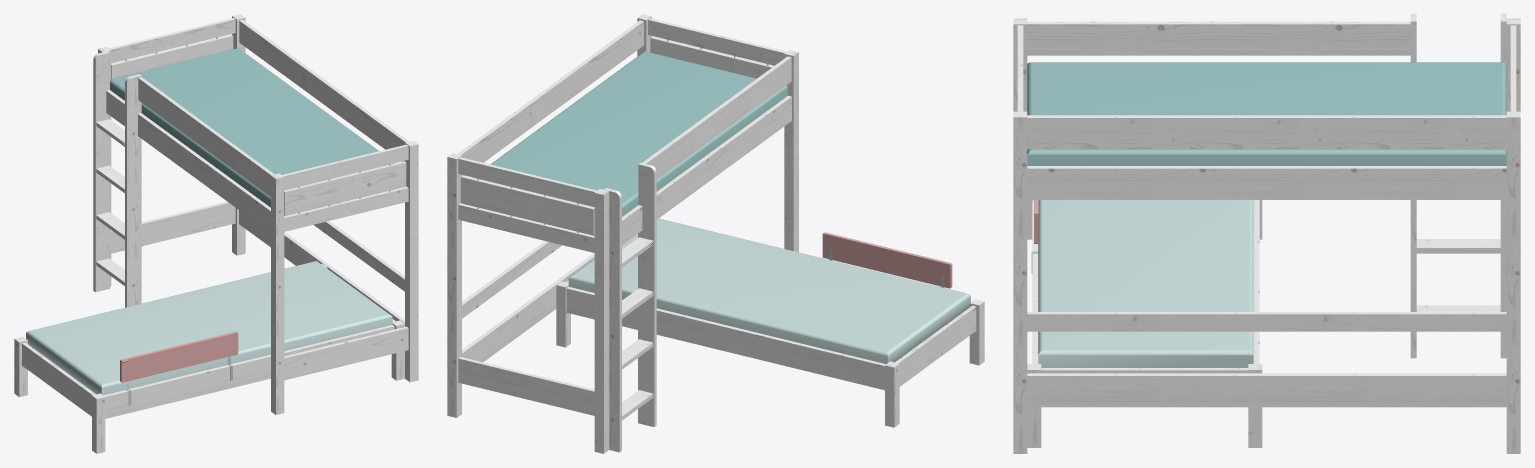
3 views of the same model, side by side, from view 1: azimuth 30°, elevation 25°; view 2: azimuth 150°, elevation 25°; view 3: azimuth 270°, elevation 25° (orthographic). The views are drawn at different scales.
Visible parts, largest first — view 1: mesh19_mesh19-geometry, mesh48_mesh48-geometry, mesh22_mesh22-geometry, mesh31_mesh31-geometry, mesh35_mesh35-geometry, mesh16_mesh16-geometry, mesh23_mesh23-geometry, mesh24_mesh24-geometry, mesh27_mesh27-geometry, mesh1_mesh1-geometry, mesh21_mesh21-geometry_1, mesh50_mesh50-geometry (+6 smaller); view 2: mesh19_mesh19-geometry, mesh48_mesh48-geometry, mesh35_mesh35-geometry, mesh31_mesh31-geometry, mesh15_mesh15-geometry, mesh22_mesh22-geometry, mesh23_mesh23-geometry, mesh24_mesh24-geometry, mesh27_mesh27-geometry, mesh1_mesh1-geometry, mesh34_mesh34-geometry, mesh50_mesh50-geometry (+4 smaller); view 3: mesh48_mesh48-geometry, mesh19_mesh19-geometry, mesh23_mesh23-geometry, mesh26_mesh26-geometry, mesh25_mesh25-geometry, mesh27_mesh27-geometry, mesh30_mesh30-geometry, mesh22_mesh22-geometry, mesh35_mesh35-geometry, mesh14_mesh14-geometry, mesh31_mesh31-geometry, mesh32_mesh32-geometry (+3 smaller).
Boxes of the visible parts, x1,y1,x2,y2 form: mesh19_mesh19-geometry: [26, 261, 392, 395]; mesh48_mesh48-geometry: [110, 48, 404, 215]; mesh22_mesh22-geometry: [271, 140, 418, 414]; mesh31_mesh31-geometry: [93, 51, 141, 307]; mesh35_mesh35-geometry: [98, 14, 245, 286]; mesh16_mesh16-geometry: [103, 325, 394, 418]; mesh23_mesh23-geometry: [239, 20, 408, 161]; mesh24_mesh24-geometry: [106, 90, 270, 232]; mesh27_mesh27-geometry: [138, 77, 274, 196]; mesh1_mesh1-geometry: [14, 337, 105, 453]; mesh21_mesh21-geometry_1: [284, 161, 406, 215]; mesh50_mesh50-geometry: [120, 331, 238, 382]; mesh19_mesh19-geometry: [568, 218, 970, 363]; mesh48_mesh48-geometry: [462, 51, 787, 235]; mesh35_mesh35-geometry: [447, 153, 609, 453]; mesh31_mesh31-geometry: [604, 162, 656, 452]; mesh15_mesh15-geometry: [566, 287, 885, 390]; mesh22_mesh22-geometry: [637, 14, 798, 252]; mesh23_mesh23-geometry: [457, 20, 643, 175]; mesh24_mesh24-geometry: [622, 96, 791, 244]; mesh27_mesh27-geometry: [642, 56, 791, 179]; mesh1_mesh1-geometry: [885, 299, 984, 427]; mesh34_mesh34-geometry: [460, 175, 594, 235]; mesh50_mesh50-geometry: [822, 232, 952, 288]; mesh48_mesh48-geometry: [1027, 62, 1506, 165]; mesh19_mesh19-geometry: [1038, 200, 1253, 367]; mesh23_mesh23-geometry: [1027, 115, 1506, 149]; mesh26_mesh26-geometry: [1027, 373, 1506, 407]; mesh25_mesh25-geometry: [1027, 166, 1506, 199]; mesh27_mesh27-geometry: [1027, 21, 1410, 55]; mesh30_mesh30-geometry: [1027, 312, 1506, 331]; mesh22_mesh22-geometry: [1013, 18, 1027, 453]; mesh35_mesh35-geometry: [1506, 18, 1520, 453]; mesh14_mesh14-geometry: [1027, 364, 1262, 447]; mesh31_mesh31-geometry: [1410, 14, 1506, 358]; mesh32_mesh32-geometry: [1416, 239, 1500, 253].
Size of the model in its own units: 0.6383 by 0.4547 by 0.6212.
9 materials, 4 textured.
